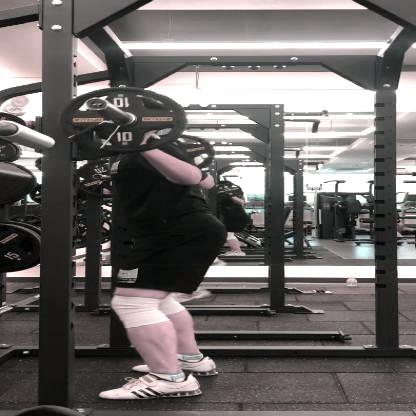Barbell: (78, 96, 117, 114)
